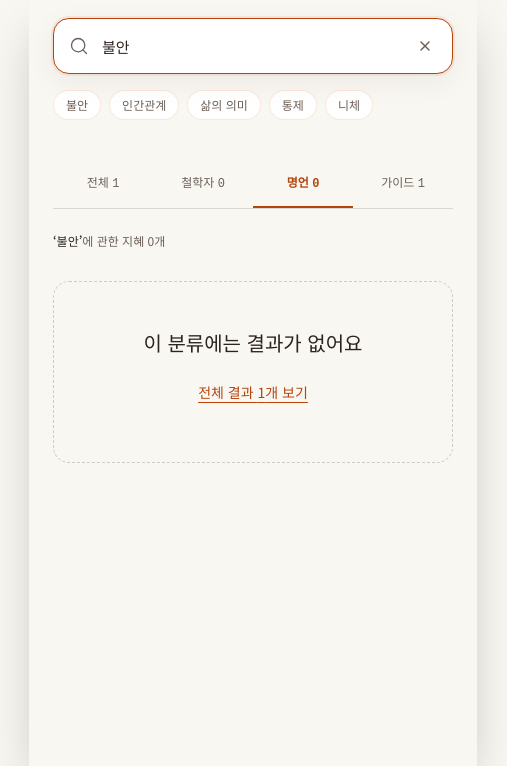
Scenario: search navigation › filters a shared URL, handles an empty category, and restores all results
The width and height of the screenshot is (507, 766).
Expected: the element "고민별 철학 가이드" is not shown
Step 1. Click the button "전체 결과 1개 보기" → (253, 392), box [198,370,308,414]
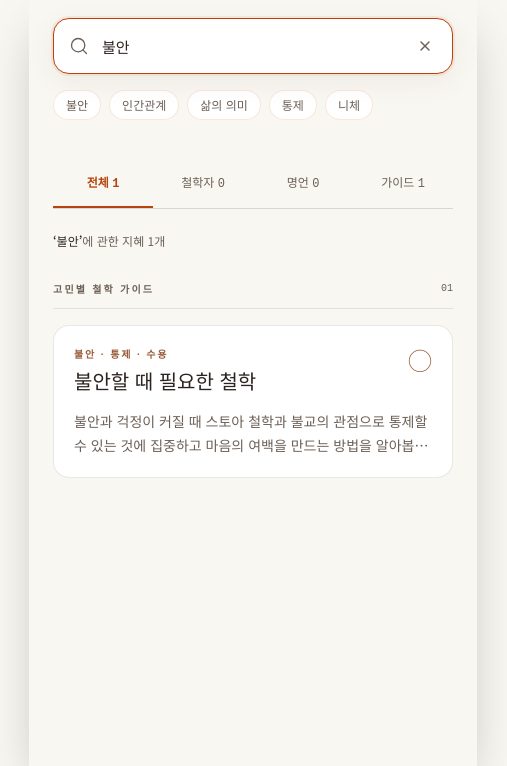
Result: the element "고민별 철학 가이드" is shown at [53,281,453,478]
